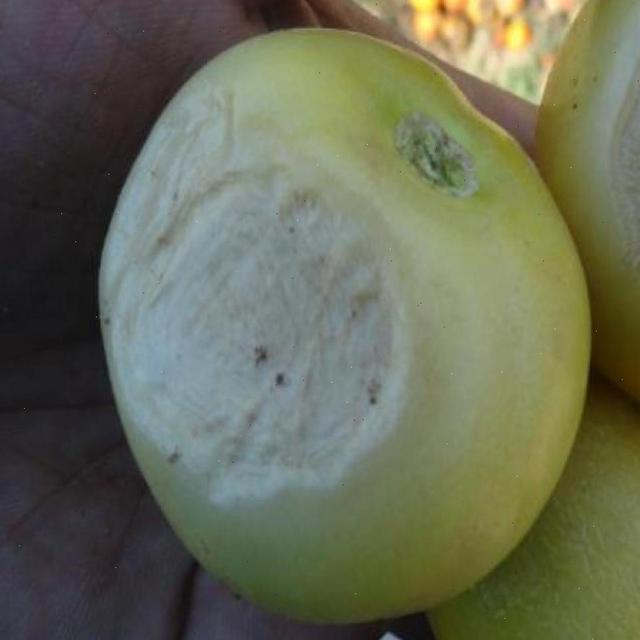Sunscald Fruit: (39, 104, 407, 303)
